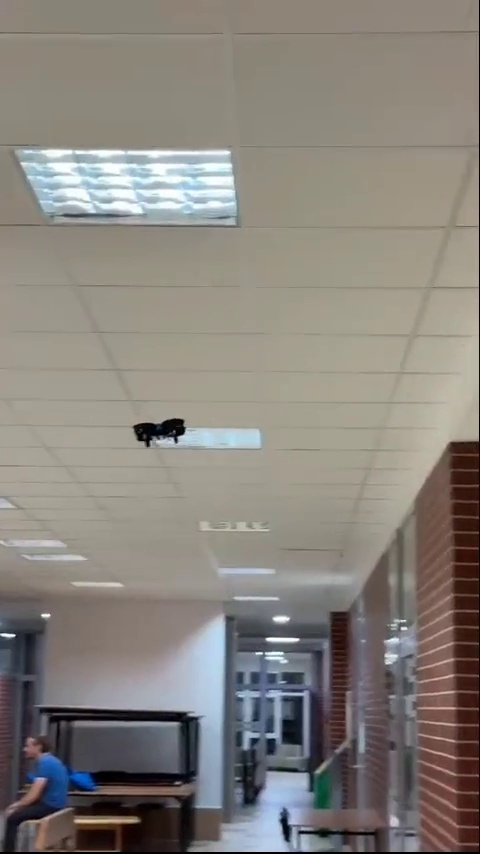drone: (131, 415, 185, 448)
no vest: (5, 727, 68, 821)
